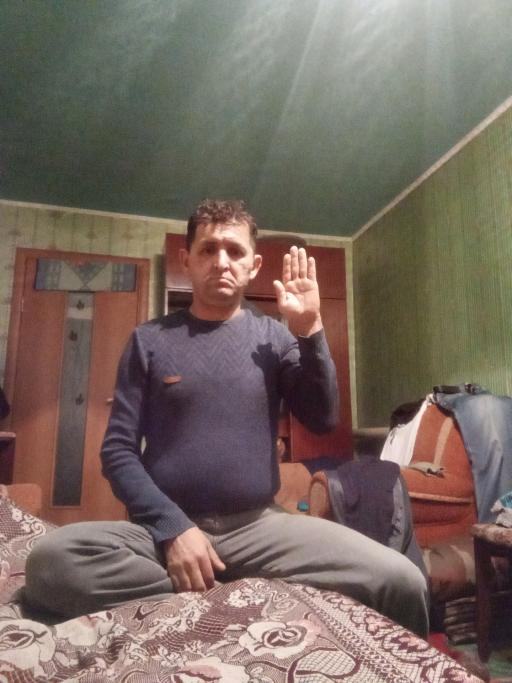no_gesture: (162, 525, 228, 594)
stop: (271, 241, 322, 325)
